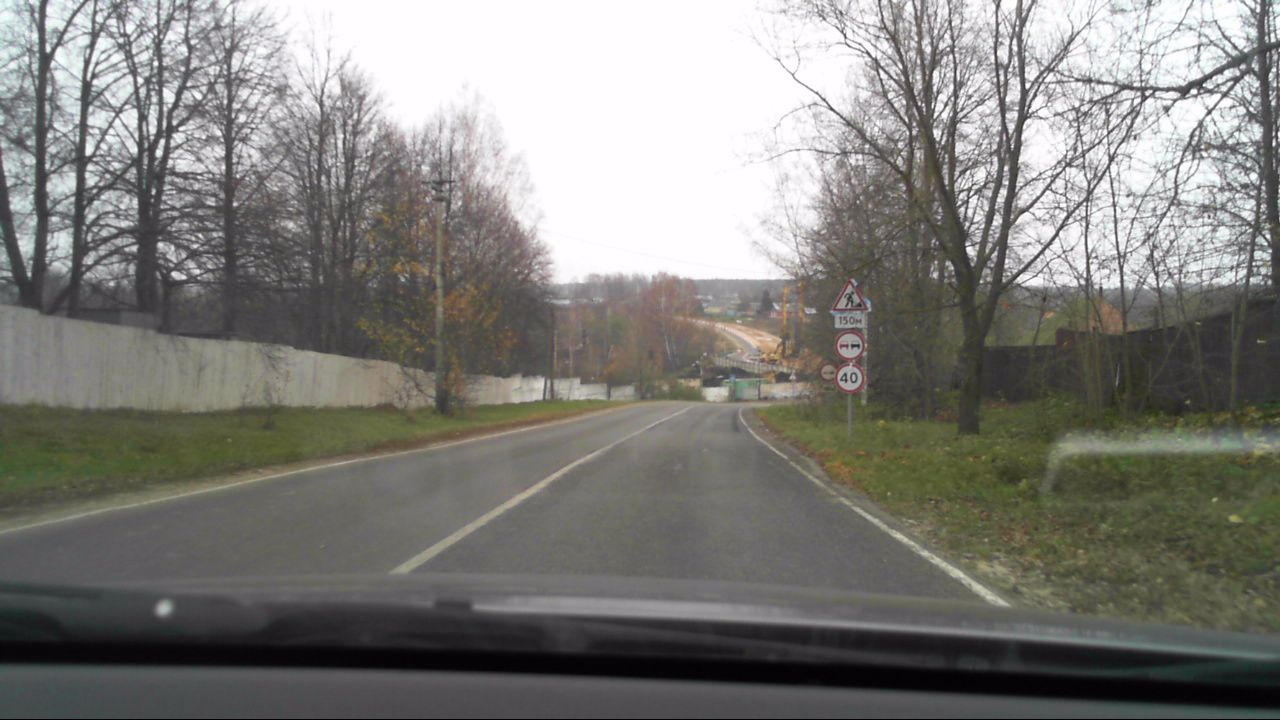speed_warning_40: (835, 363, 863, 393)
